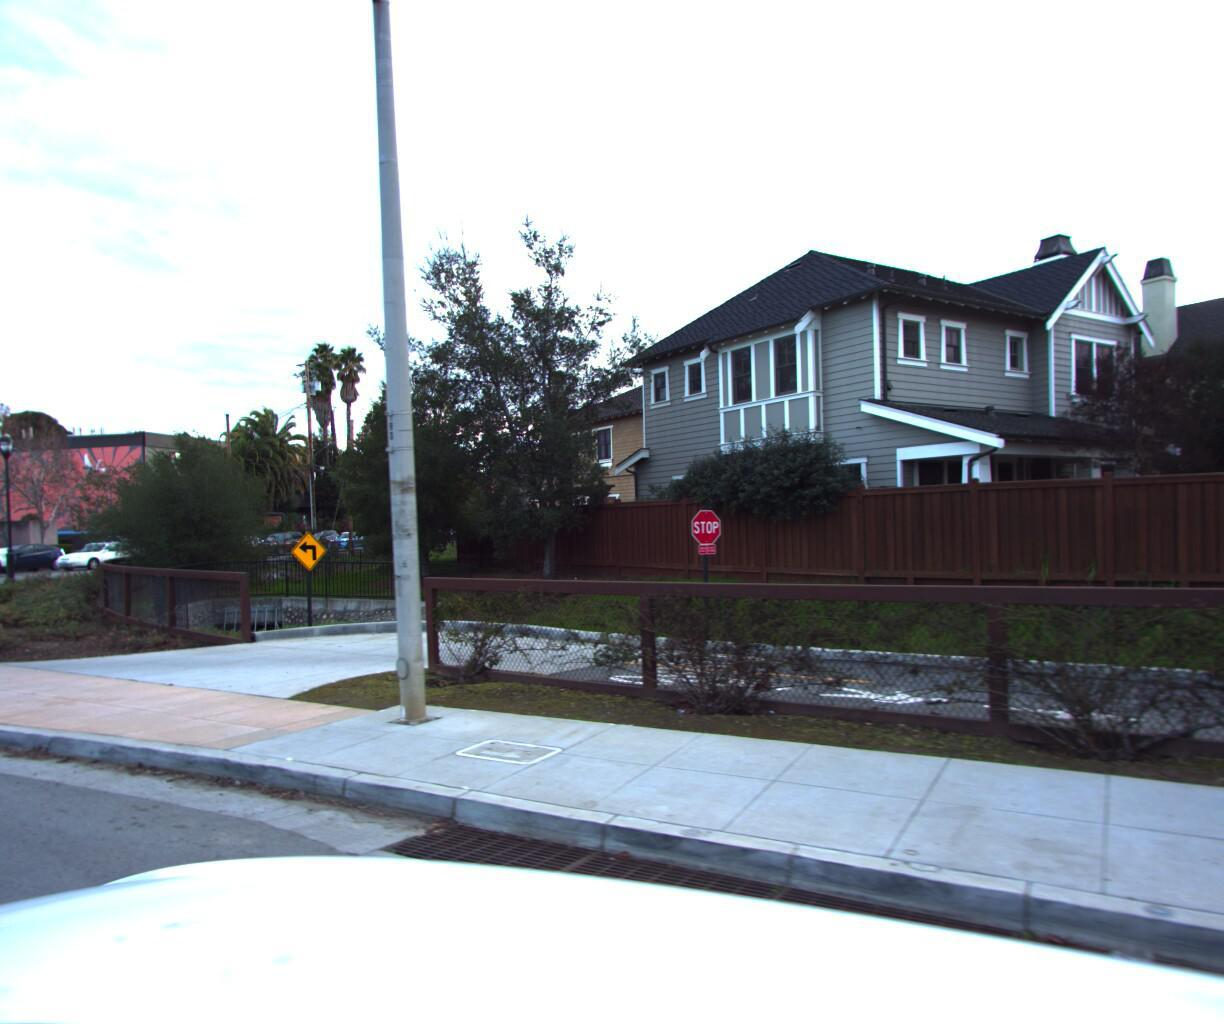car: (47, 534, 155, 567), (0, 537, 74, 569), (0, 525, 22, 582)
